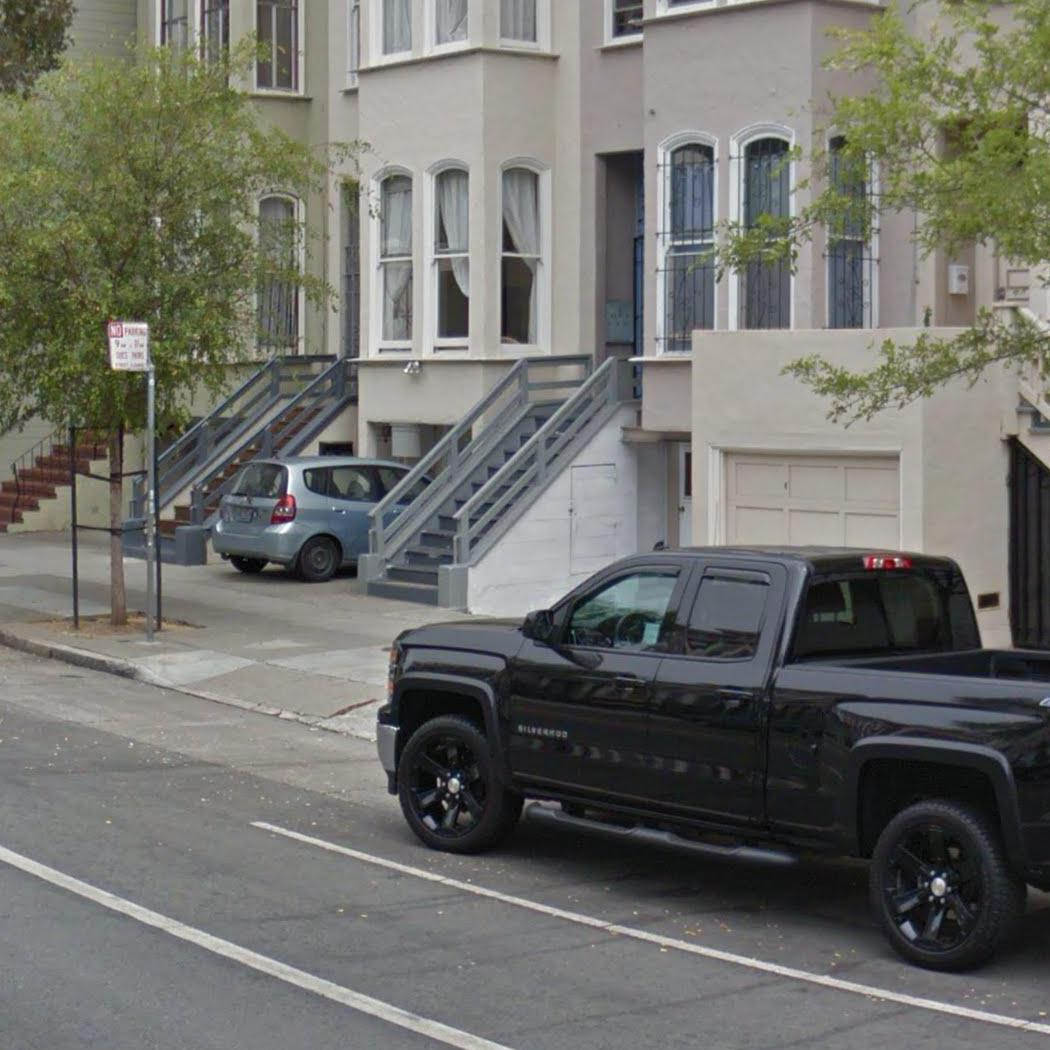No Parking: (107, 321, 148, 371)
